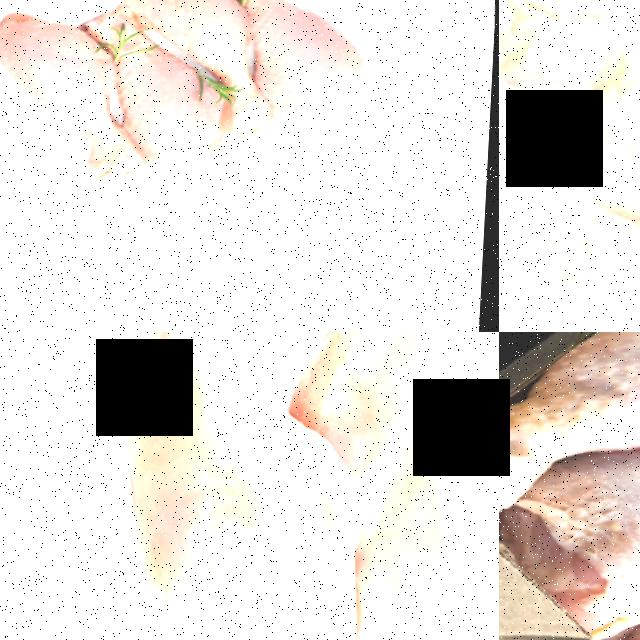chicken breast: (79, 332, 361, 640), (332, 332, 499, 640)
chicken thigh: (531, 376, 640, 609), (0, 10, 139, 187), (99, 8, 239, 178), (499, 332, 640, 488), (246, 0, 379, 126)
chicken wing: (499, 117, 640, 332)
